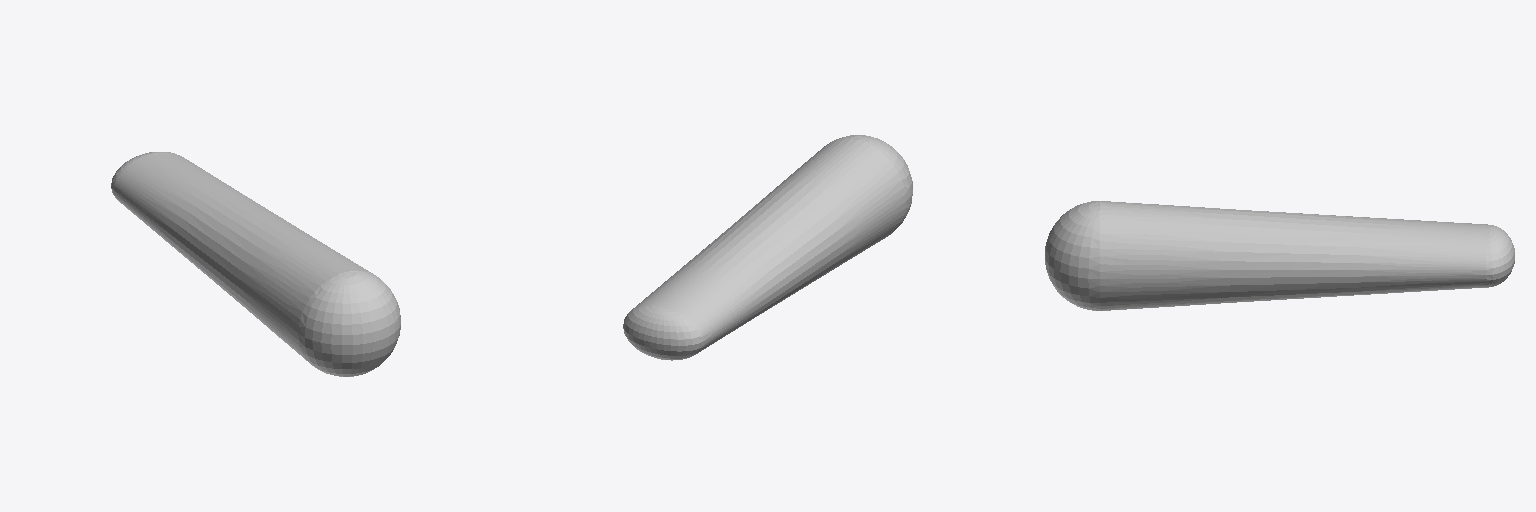
Rendered from L_LEG_LOWER.obj.
The picture shows the model from 3 angles: view 1: azimuth 30°, elevation 25°; view 2: azimuth 150°, elevation 25°; view 3: azimuth 270°, elevation 25°; orthographic projection.
Bounding box in the file's own units: 0.1 × 0.1 × 0.4265.